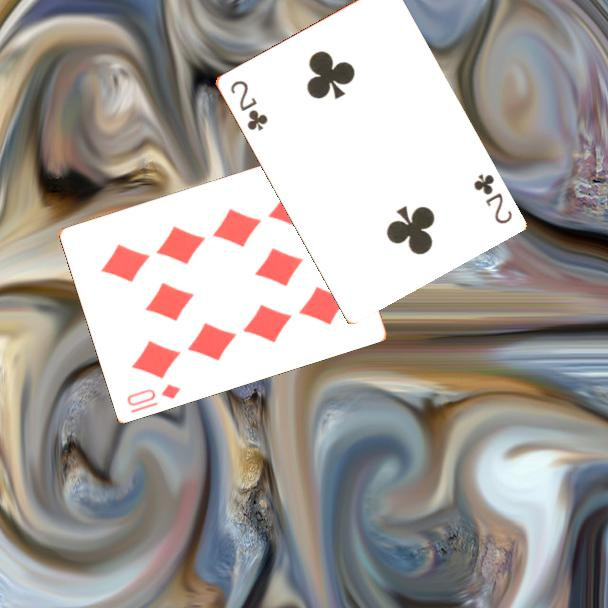c02: (469, 170, 515, 227), (226, 77, 270, 134)
d10: (123, 380, 184, 416)
